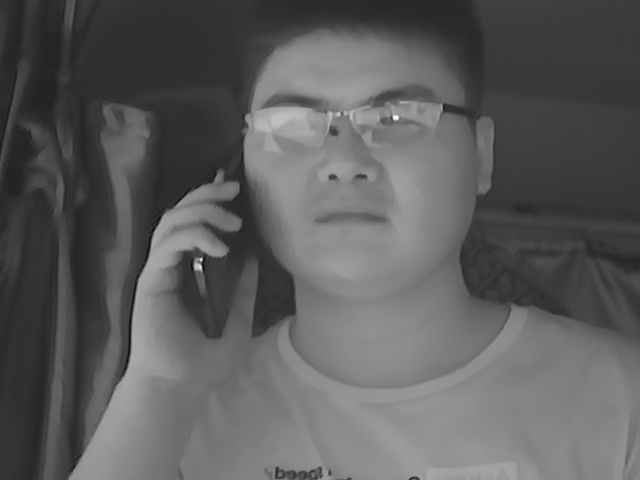hand: (134, 176, 257, 383)
